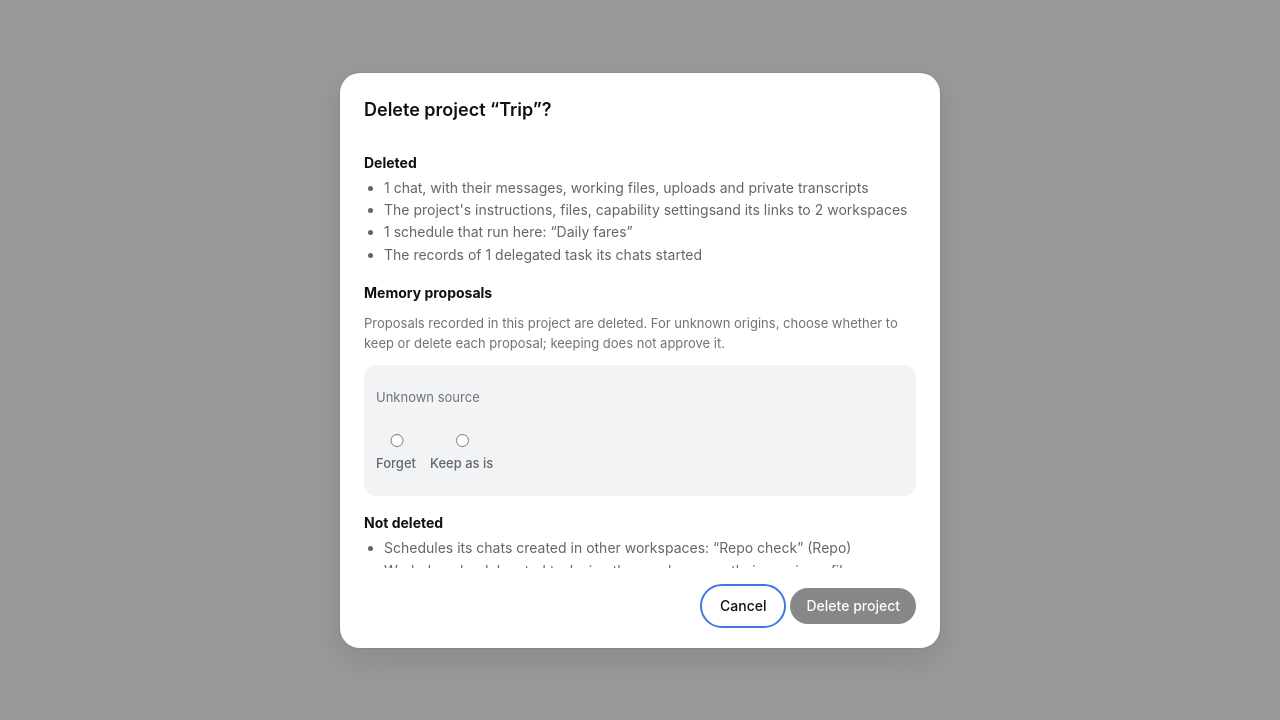
Scenario: requires an explicit decision for unknown proposals and resubmits only a fresh status
Expected: the button "Delete project" is disabled, [790,588,916,624]
Click the radio button labelled "Keep as is" at (463, 441), box [435,434,490,448]
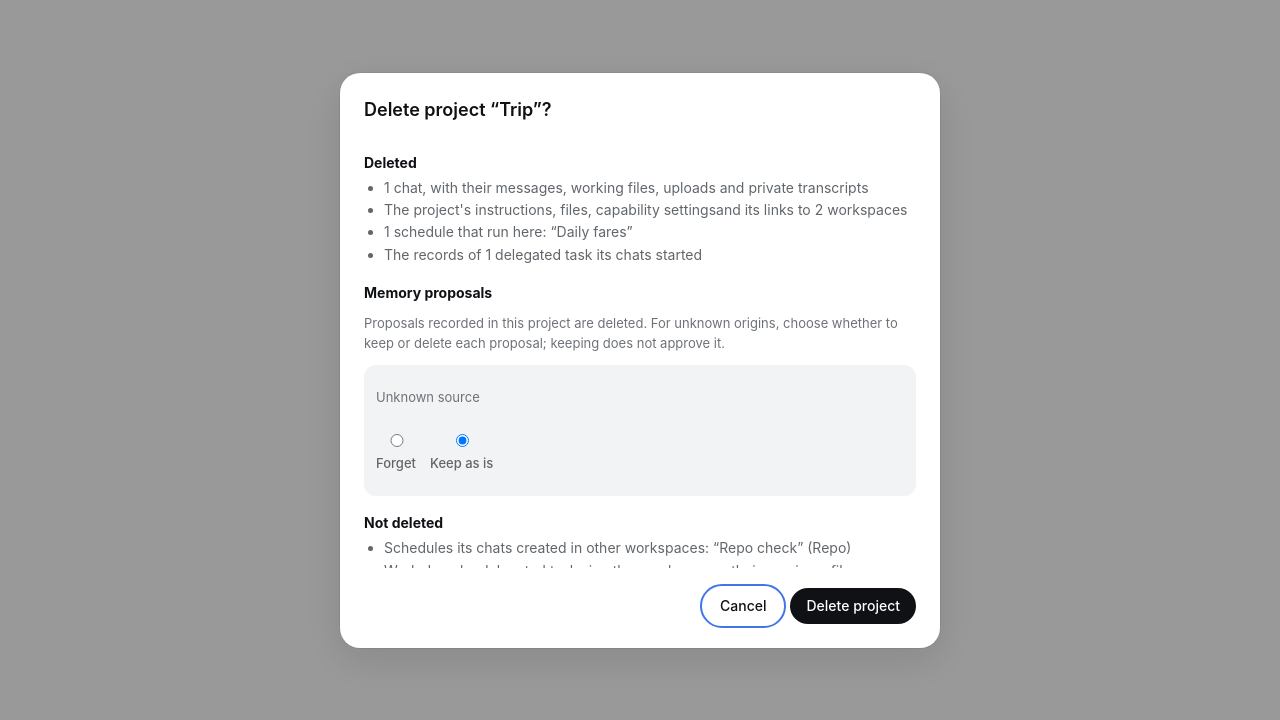
Expected: the button "Delete project" is enabled
Click the button "Delete project" at (853, 606), box [790,588,916,624]
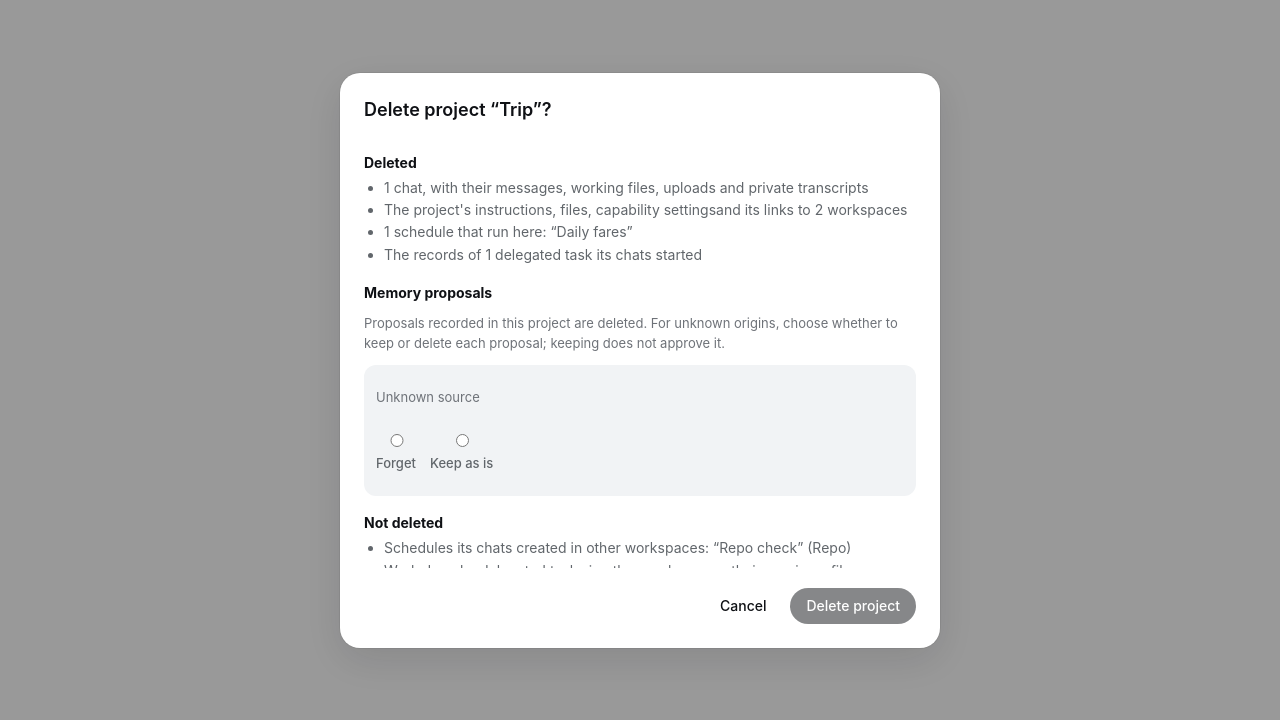
Expected: the button "Delete project" is disabled, [790,588,916,624]
